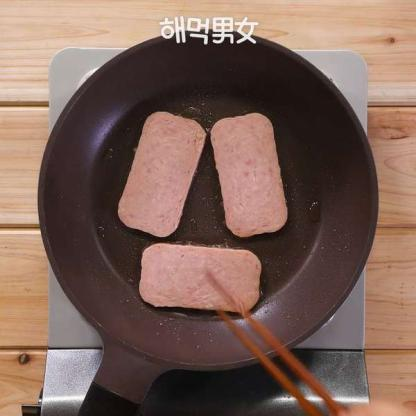spam: (125, 104, 197, 235), (211, 110, 285, 232), (148, 240, 258, 307)
